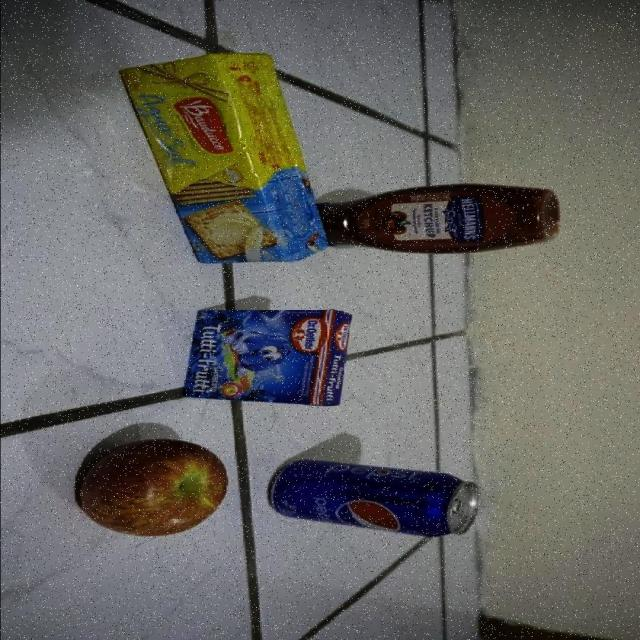Apple: (74, 440, 238, 538)
Cracker: (113, 50, 326, 267)
Gelatine: (181, 305, 350, 408)
Ketchup: (328, 186, 564, 256)
SodaCan: (274, 454, 480, 544)
